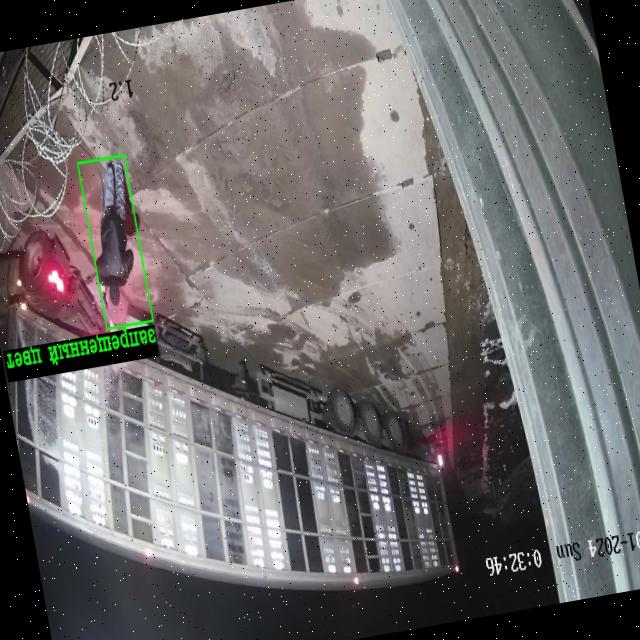Person: (96, 160, 134, 306)
